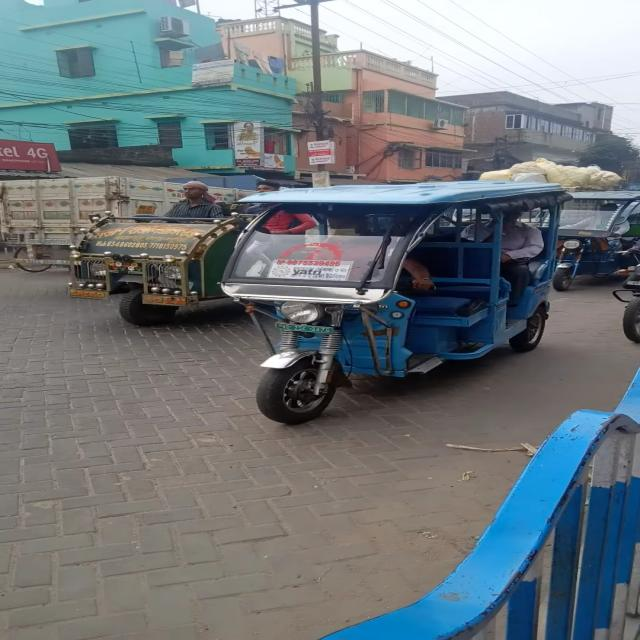Toto: (200, 176, 570, 444)
